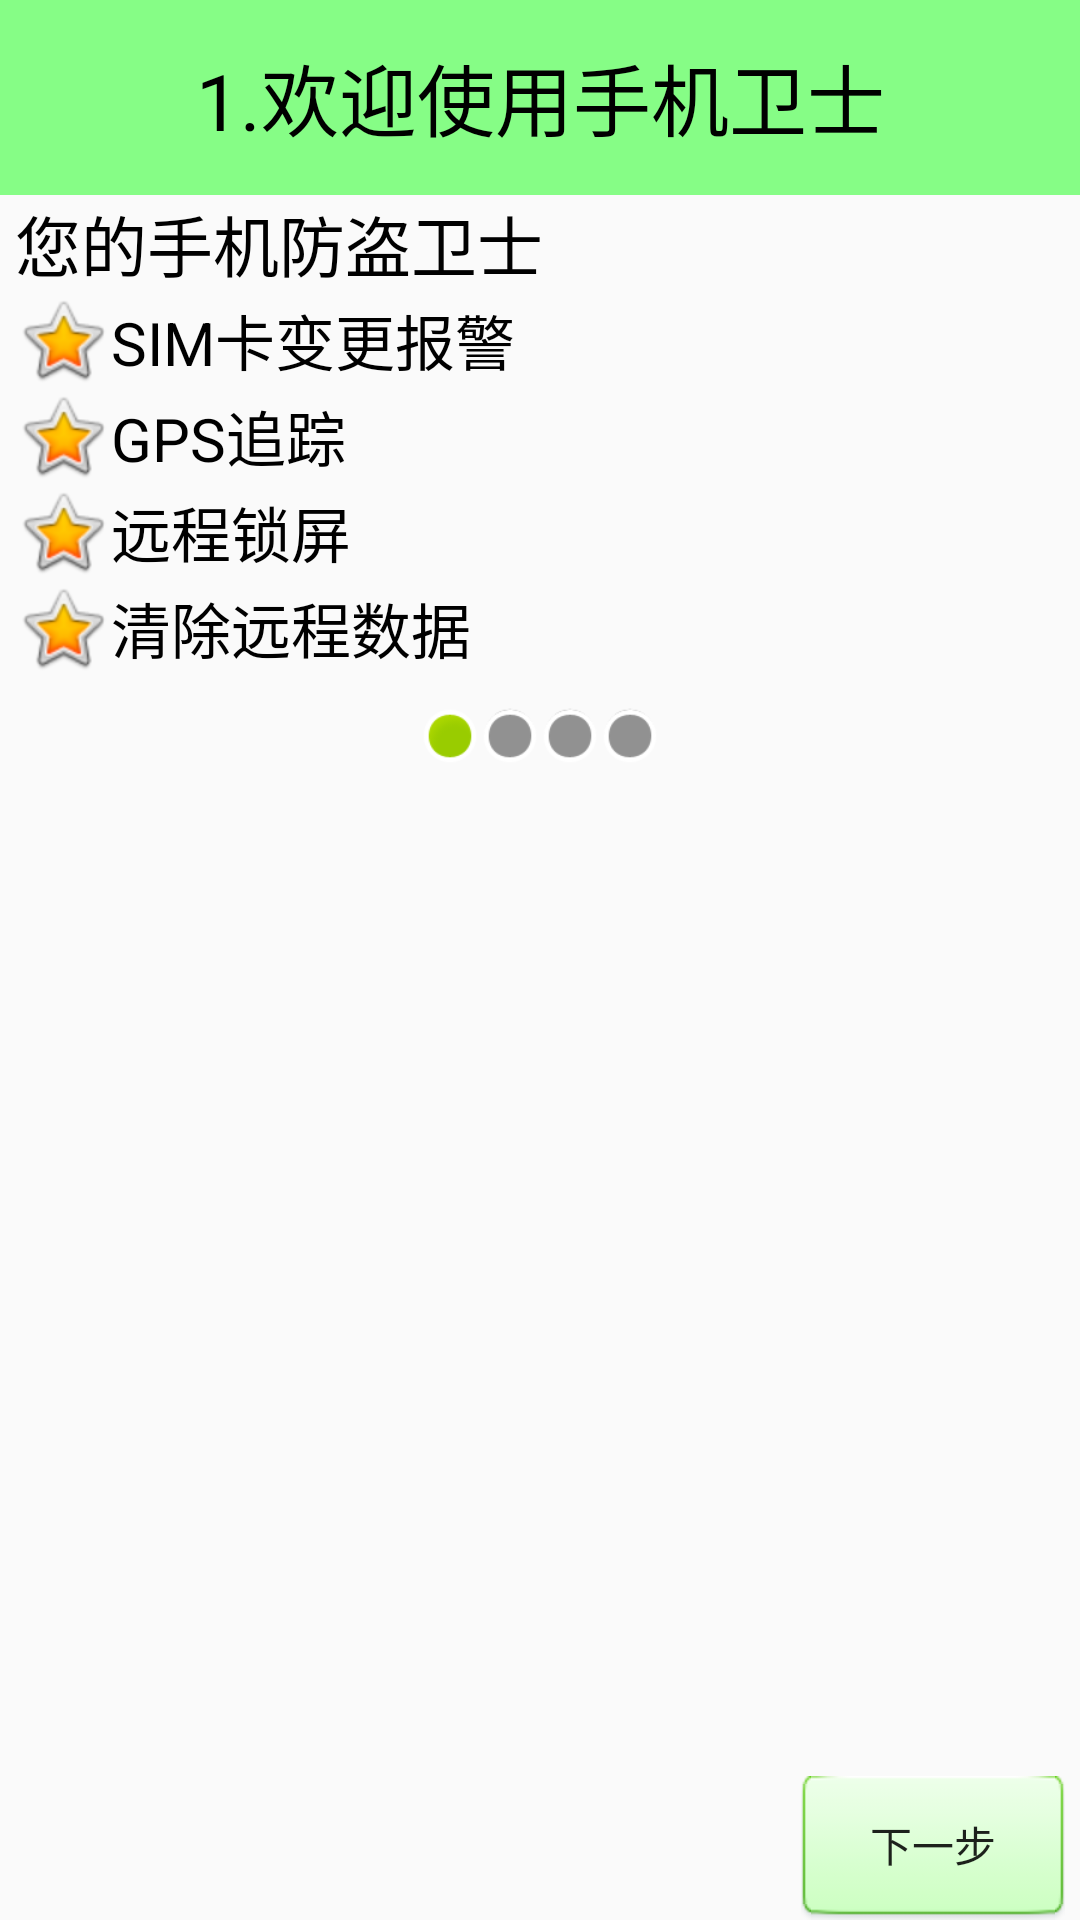

Icons on this 1080 x 1920 Android screen, each with its box as (x1, y1, x2, y2):
presence invisible: (488, 710, 532, 758), (548, 710, 592, 758), (608, 710, 652, 758)
presence online: (428, 714, 472, 758)
